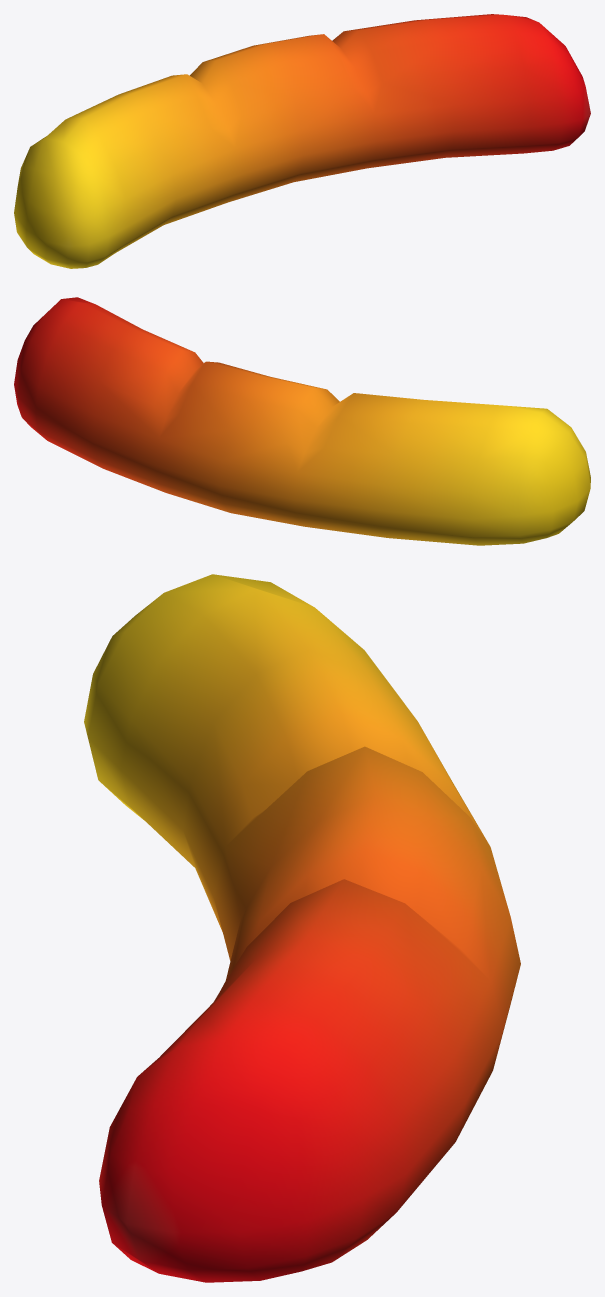
Rendered from candy_glass_30.fbx.
The picture shows the model from 3 angles, top to bottom: view 1: azimuth 30°, elevation 25°; view 2: azimuth 150°, elevation 25°; view 3: azimuth 270°, elevation 25°; orthographic projection. The views are drawn at different scales.
Parts seen in each view (by area): view 1: c_g_30; view 2: c_g_30; view 3: c_g_30.
Boxes of the visible parts, x1,y1,x2,y2 form: c_g_30: [14, 14, 590, 268]; c_g_30: [14, 297, 590, 545]; c_g_30: [84, 574, 520, 1282].
Size of the model in its own units: 205 by 45.62 by 70.52.
